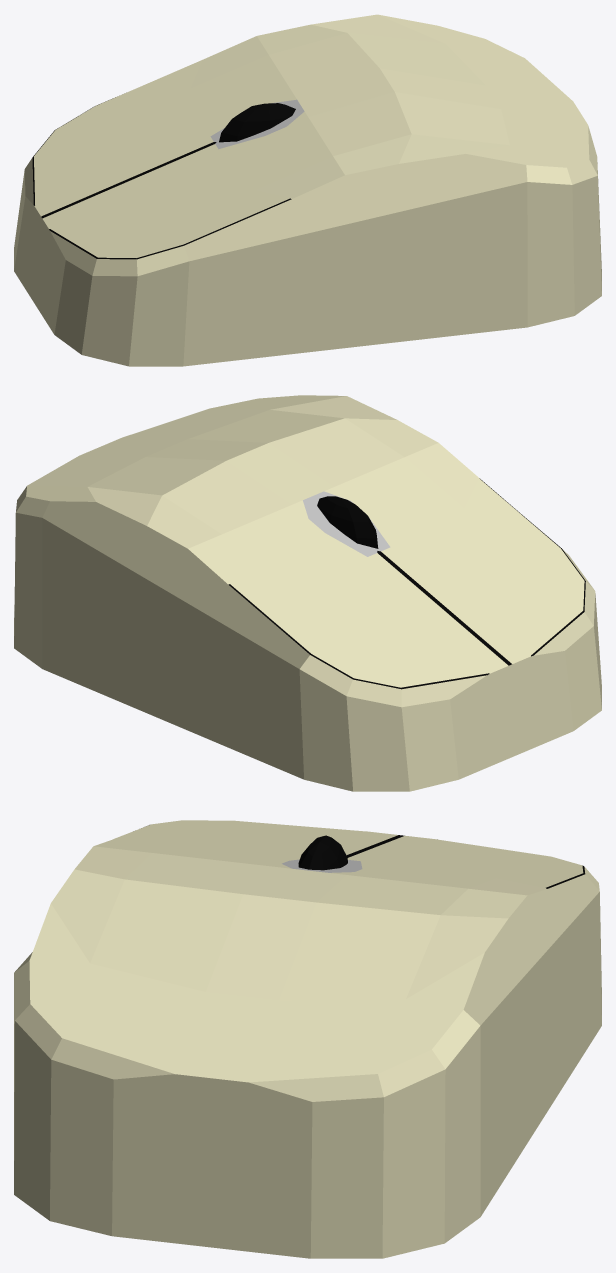
File: Mouse.fbx
3 views of the same model, one above another, from view 1: azimuth 30°, elevation 25°; view 2: azimuth 150°, elevation 25°; view 3: azimuth 270°, elevation 25° (orthographic). The views are drawn at different scales.
Visible parts, largest first — view 1: Mouse; view 2: Mouse; view 3: Mouse.
Part boxes in pixels (x1=…): Mouse: x1=14, y1=14, x2=601, y2=366; Mouse: x1=14, y1=395, x2=601, y2=791; Mouse: x1=14, y1=820, x2=601, y2=1258.
Size of the model in its own units: 17.63 by 6.05 by 13.39.
